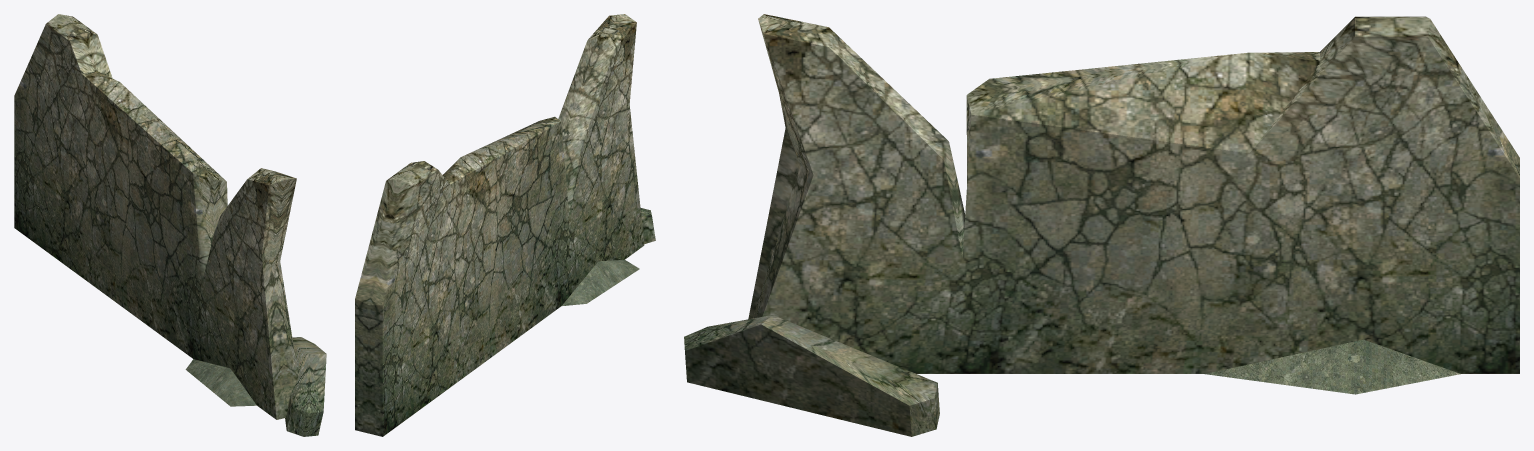
File: thm_nboo_gungan_wall_ruined_lg_s02_l2.fbx
3 renders of one model, left to right at view 1: azimuth 30°, elevation 25°; view 2: azimuth 150°, elevation 25°; view 3: azimuth 270°, elevation 25°, orthographic. The views are drawn at different scales.
Visible parts, largest first — view 1: mesh_node; view 2: mesh_node; view 3: mesh_node.
Boxes of the visible parts, x1,y1,x2,y2 form: mesh_node: [14, 14, 326, 436]; mesh_node: [355, 14, 655, 436]; mesh_node: [684, 14, 1519, 436].
Size of the model in its own units: 2.08 by 4.2 by 8.78.
